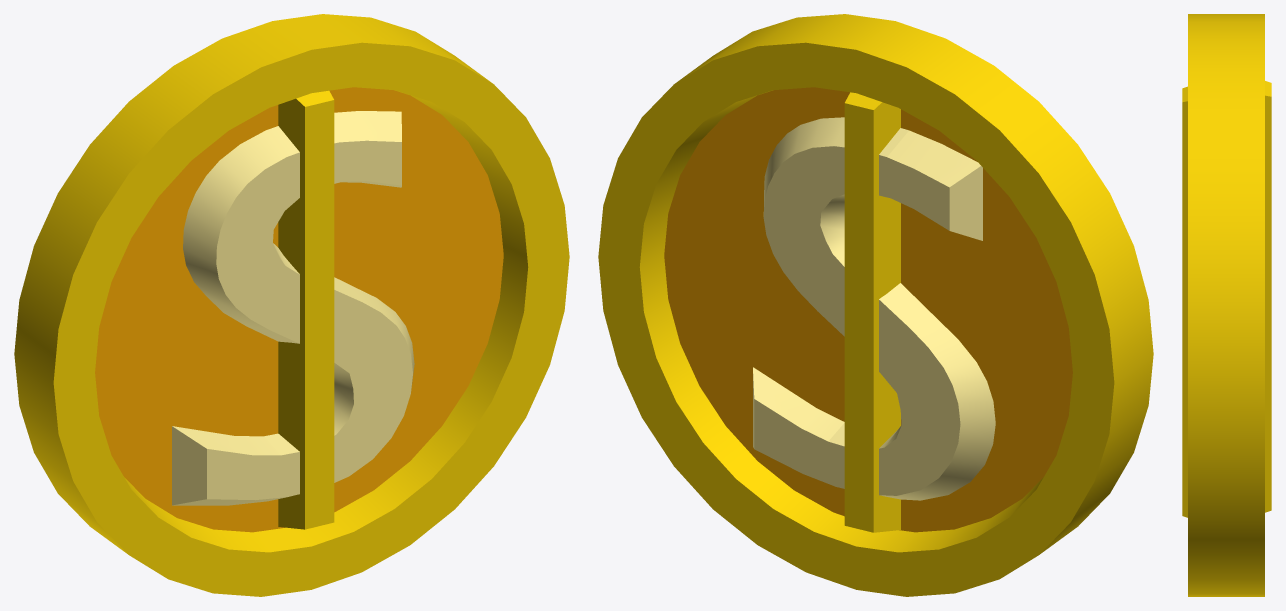
File: monete.fbx
3 renders of one model, left to right at view 1: azimuth 30°, elevation 25°; view 2: azimuth 150°, elevation 25°; view 3: azimuth 270°, elevation 25°, orthographic. The views are drawn at different scales.
Parts seen in each view (by area): view 1: monete; view 2: monete; view 3: monete.
Boxes of the visible parts, <box> form: monete: <box>14,14,569,596</box>; monete: <box>598,14,1153,596</box>; monete: <box>1182,14,1271,596</box>.
Bounding box in the file's own units: 14.66 × 14.66 × 2.24.
